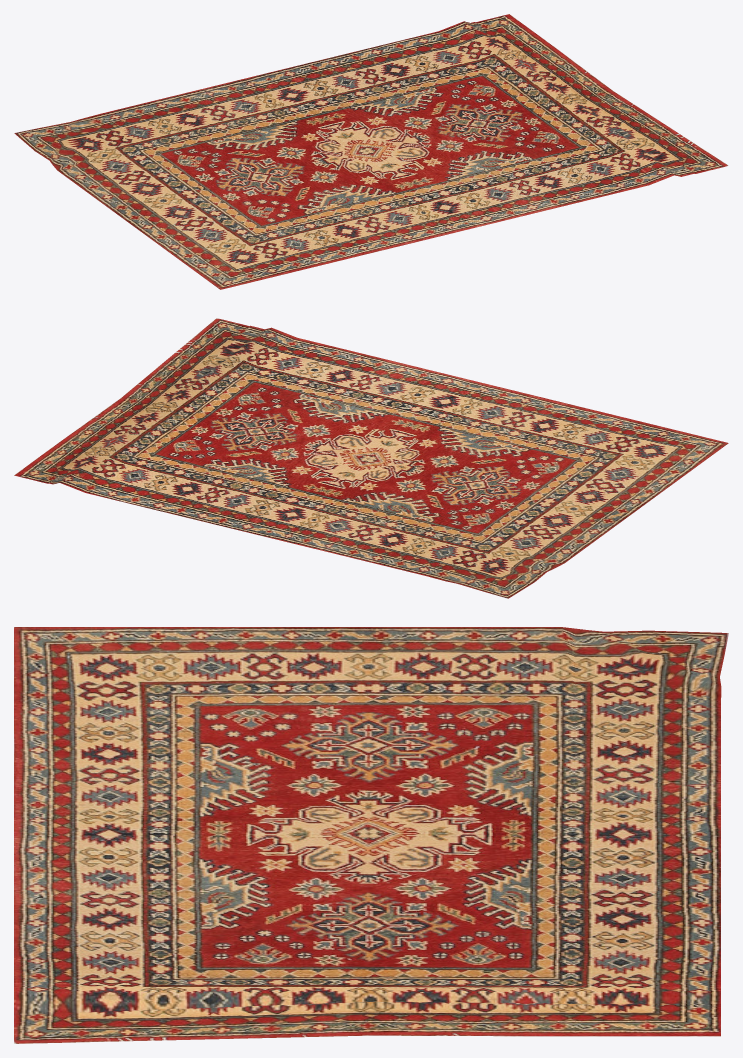
The model's file is Carpet_Straight.glb.
3 views of the same model, one above another, from view 1: azimuth 30°, elevation 25°; view 2: azimuth 150°, elevation 25°; view 3: azimuth 270°, elevation 25° (orthographic). The views are drawn at different scales.
Visible parts, largest first — view 1: Carpet.001; view 2: Carpet.001; view 3: Carpet.001.
Part boxes in pixels (x1=…): Carpet.001: x1=14, y1=14, x2=728, y2=289; Carpet.001: x1=14, y1=318, x2=728, y2=598; Carpet.001: x1=14, y1=627, x2=728, y2=1043.
Bounding box in the file's own units: 2.79 × 0.0224 × 2.02.
Materials: 1 (1 with a texture image).
